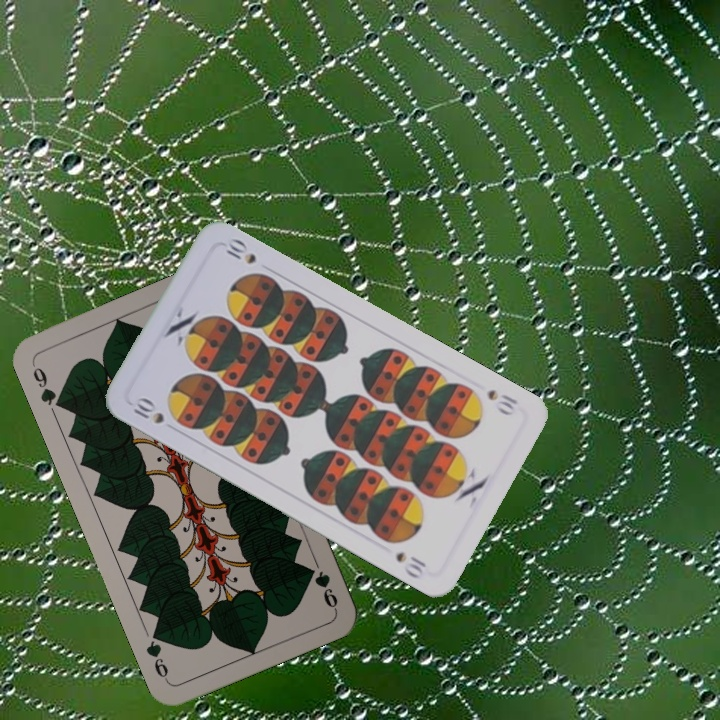G9: (28, 360, 67, 412), (309, 556, 341, 612)
S10: (483, 385, 521, 418), (129, 395, 167, 427)
